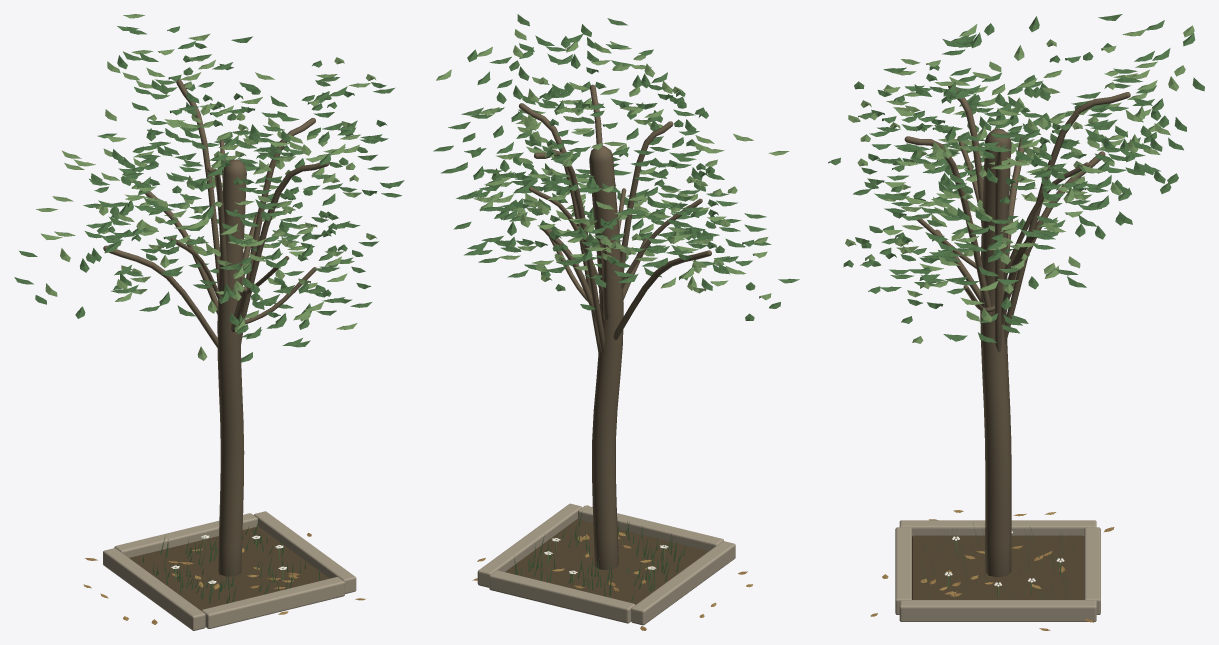
Rendered from tree_1.glb.
3 renders of one model, left to right at view 1: azimuth 30°, elevation 25°; view 2: azimuth 150°, elevation 25°; view 3: azimuth 270°, elevation 25°, orthographic. The views are drawn at different scales.
Visible parts, largest first — view 1: Trunk, Soil, Hollow_pit_border.003, Hollow_pit_border, Hollow_pit_border.001, Hollow_pit_border.002, Tapered_branch.003, Tapered_branch.002, Tapered_branch.004, Tapered_branch, Tapered_branch.001; view 2: Trunk, Soil, Hollow_pit_border.002, Hollow_pit_border, Hollow_pit_border.001, Hollow_pit_border.003, Tapered_branch.002, Tapered_branch.001, Tapered_branch.004, Tapered_branch, Tapered_branch.005; view 3: Soil, Trunk, Hollow_pit_border.001, Hollow_pit_border, Tapered_branch.002, Hollow_pit_border.002, Hollow_pit_border.003, Tapered_branch, Tapered_branch.003, Tapered_branch.001, Tapered_branch.010.
Boxes of the visible parts, x1,y1,x2,y2 form: Trunk: (217, 159, 246, 576); Soil: (129, 526, 329, 610); Hollow_pit_border.003: (201, 577, 344, 628); Hollow_pit_border: (103, 548, 205, 630); Hollow_pit_border.001: (254, 511, 356, 593); Hollow_pit_border.002: (114, 513, 257, 557); Tapered_branch.003: (241, 162, 329, 335); Tapered_branch.002: (176, 79, 219, 288); Tapered_branch.004: (103, 245, 218, 348); Tapered_branch: (241, 118, 315, 343); Tapered_branch.001: (207, 167, 227, 290); Trunk: (589, 145, 623, 569); Soil: (505, 519, 708, 604); Hollow_pit_border.002: (489, 570, 635, 623); Hollow_pit_border: (631, 541, 735, 625); Hollow_pit_border.001: (477, 503, 581, 587); Hollow_pit_border.003: (578, 505, 723, 550); Tapered_branch.002: (534, 150, 604, 352); Tapered_branch.001: (620, 121, 673, 278); Tapered_branch.004: (613, 250, 711, 339); Tapered_branch: (519, 103, 599, 352); Tapered_branch.005: (541, 224, 596, 323); Soil: (912, 535, 1084, 599); Trunk: (980, 128, 1011, 577); Hollow_pit_border.001: (899, 600, 1096, 621); Hollow_pit_border: (899, 520, 1096, 536); Tapered_branch.002: (1004, 92, 1130, 343); Hollow_pit_border.002: (1084, 527, 1100, 614); Hollow_pit_border.003: (895, 527, 911, 614); Tapered_branch: (995, 142, 1001, 352); Tapered_branch.003: (904, 136, 991, 315); Tapered_branch.001: (948, 85, 983, 225); Tapered_branch.010: (1003, 162, 1089, 279).
Bounding box in the file's own units: 3.04 × 4.4 × 2.71.
